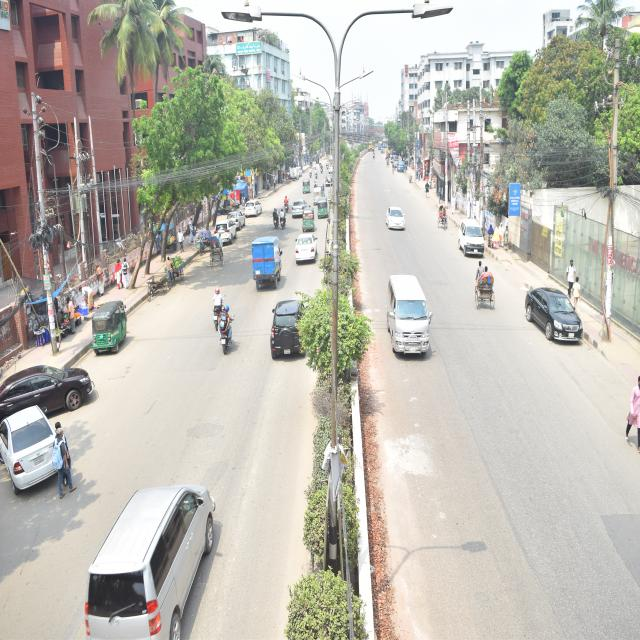car: (82, 487, 241, 640), (512, 247, 601, 386), (0, 337, 95, 433), (0, 399, 63, 523), (262, 283, 324, 384), (456, 204, 506, 296), (381, 186, 413, 248), (294, 223, 329, 271), (208, 208, 233, 256), (288, 187, 308, 229), (224, 202, 248, 232), (242, 192, 264, 222), (323, 172, 337, 190)
microbus: (376, 255, 442, 373)
motorbike: (219, 301, 244, 370), (204, 286, 227, 327), (277, 206, 290, 236), (272, 196, 280, 234), (280, 194, 290, 223), (307, 171, 318, 197), (308, 166, 319, 182)
